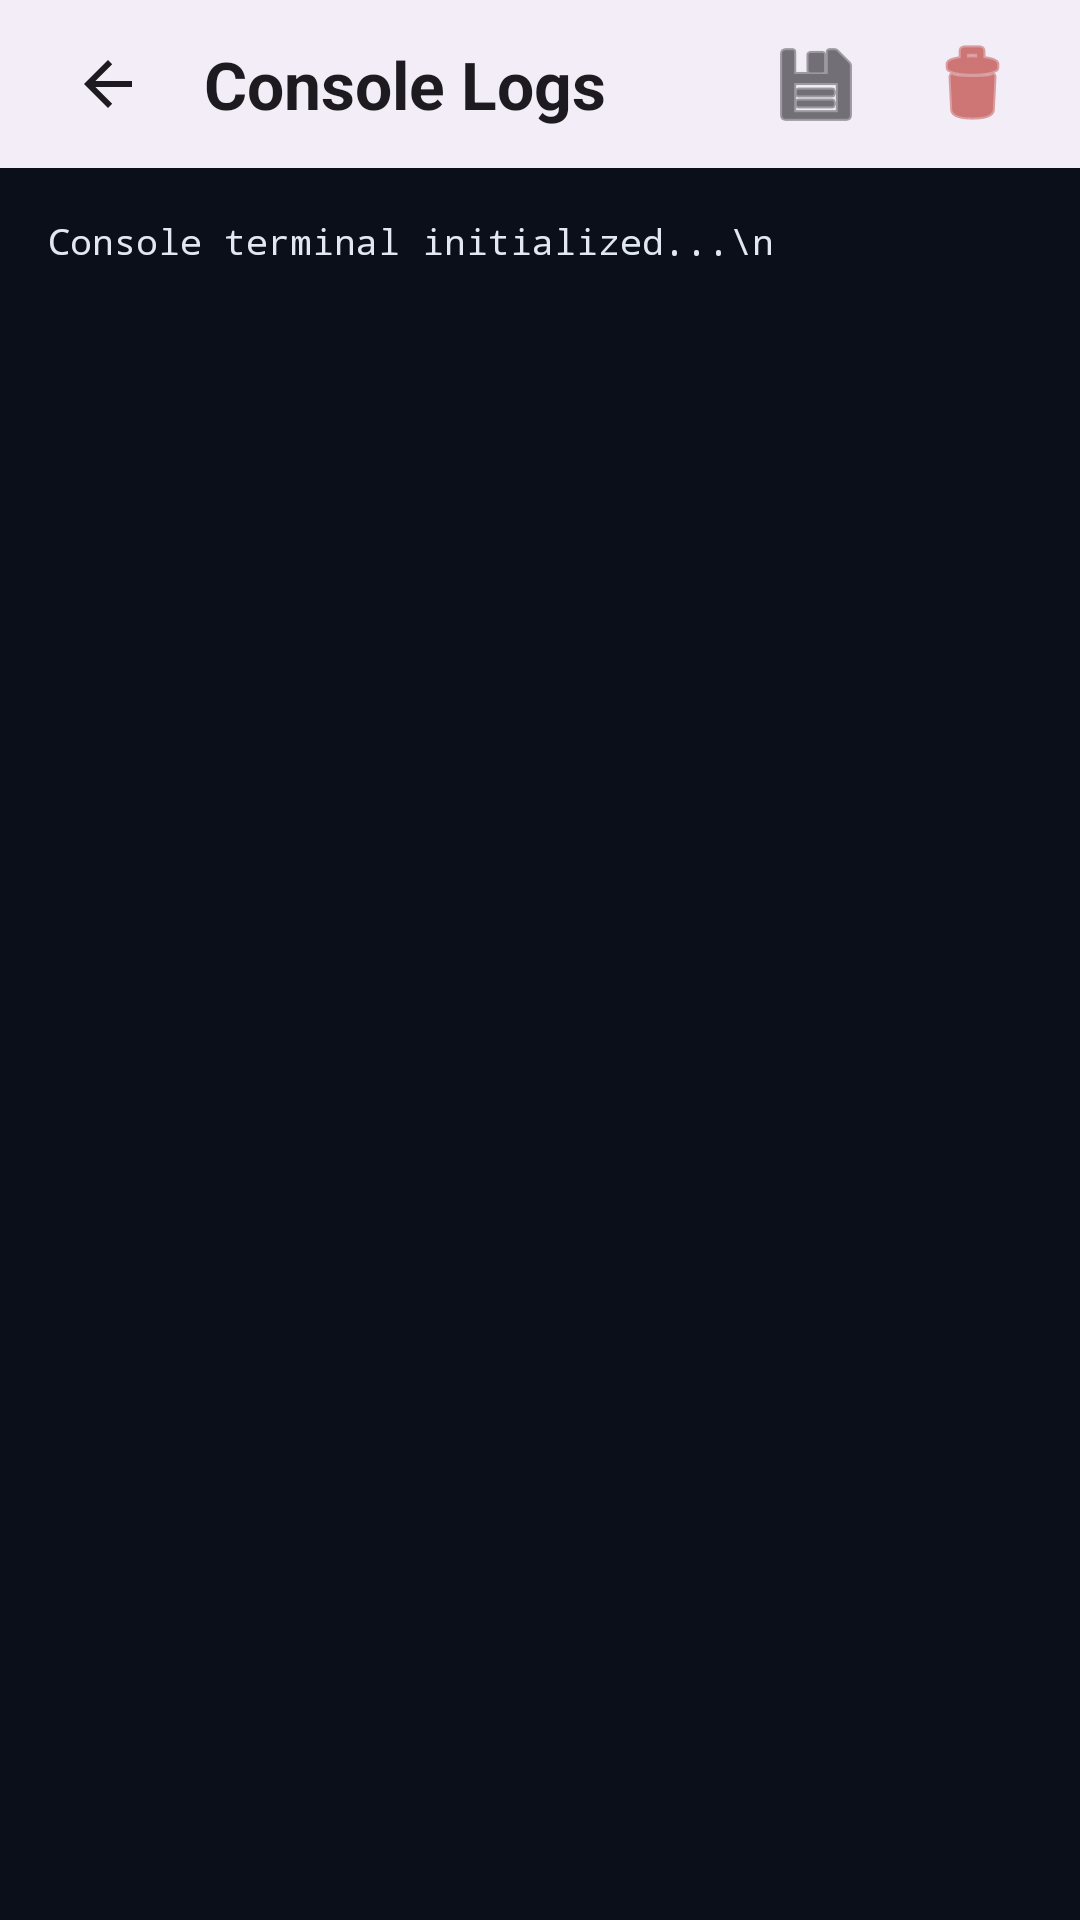

Point at icon controls on the screen. Image size 1080px×1920px, points as [x,y].
Clear Logs: [972,82]
Go Back: [108,84]
